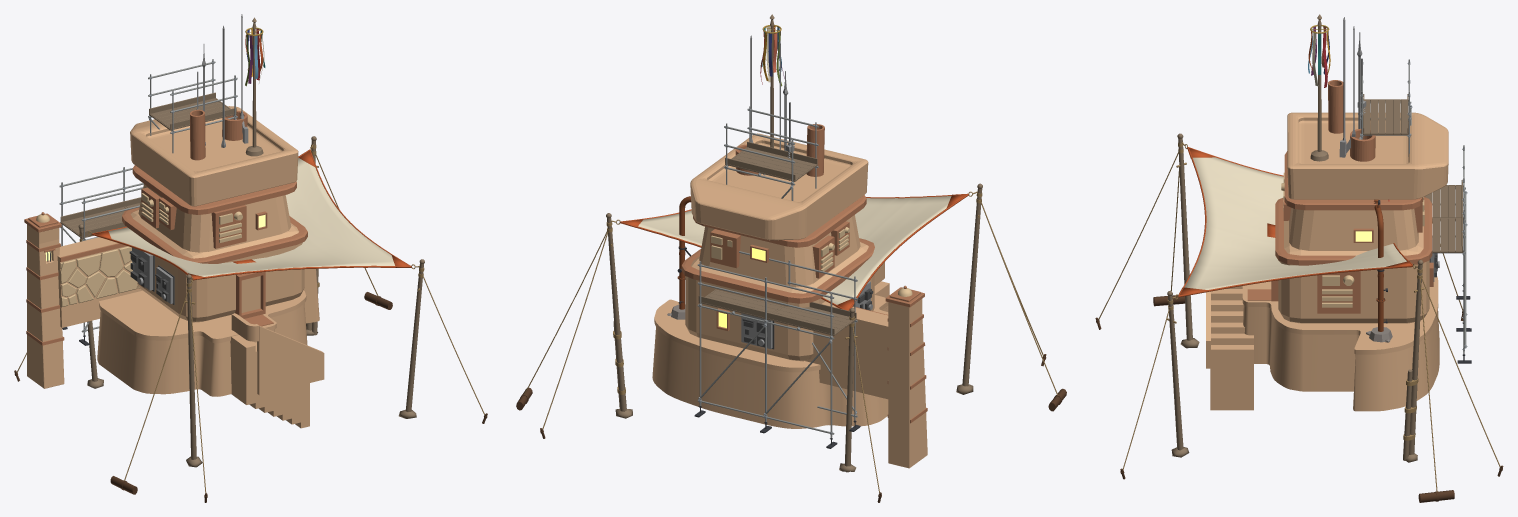
The model's file is nomad_building_b22.fbx.
The picture shows the model from 3 angles, left to right: view 1: azimuth 30°, elevation 25°; view 2: azimuth 150°, elevation 25°; view 3: azimuth 270°, elevation 25°; orthographic projection. The views are drawn at different scales.
Visible parts, largest first — view 1: NomadBuilding_B22; view 2: NomadBuilding_B22; view 3: NomadBuilding_B22.
Part boxes in pixels (box(x1,y1,x2,y2)): NomadBuilding_B22: box(14, 14, 487, 502); NomadBuilding_B22: box(516, 14, 1066, 502); NomadBuilding_B22: box(1095, 14, 1503, 502).
Size of the model in its own units: 2249 by 2043 by 1913.
